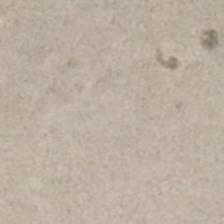Non_Crack: (3, 3, 224, 224)
